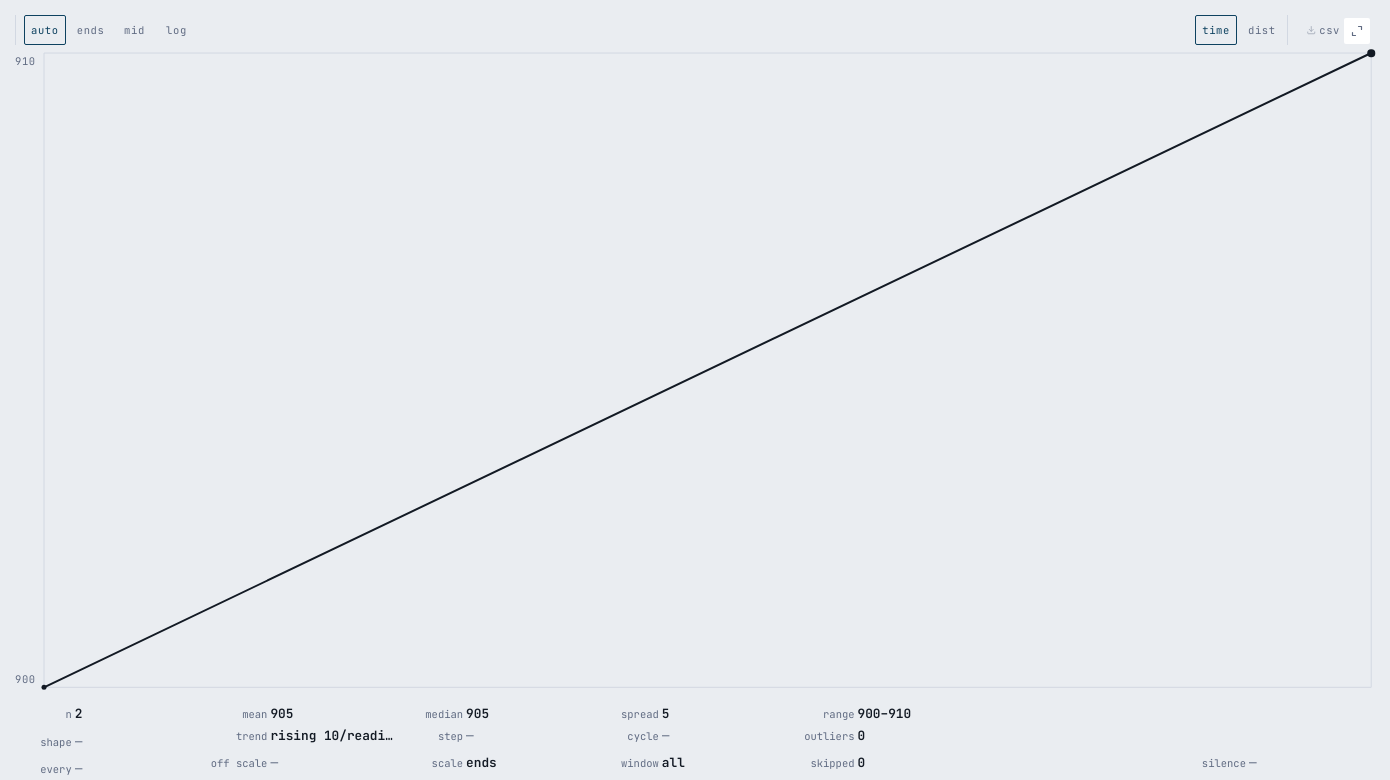
Test case: pinning a chart › opens as many windows on one topic as it is asked for
The width and height of the screenshot is (1390, 780).
Click the button with test id "zoom": (1357, 31) [1344,18,1370,44]
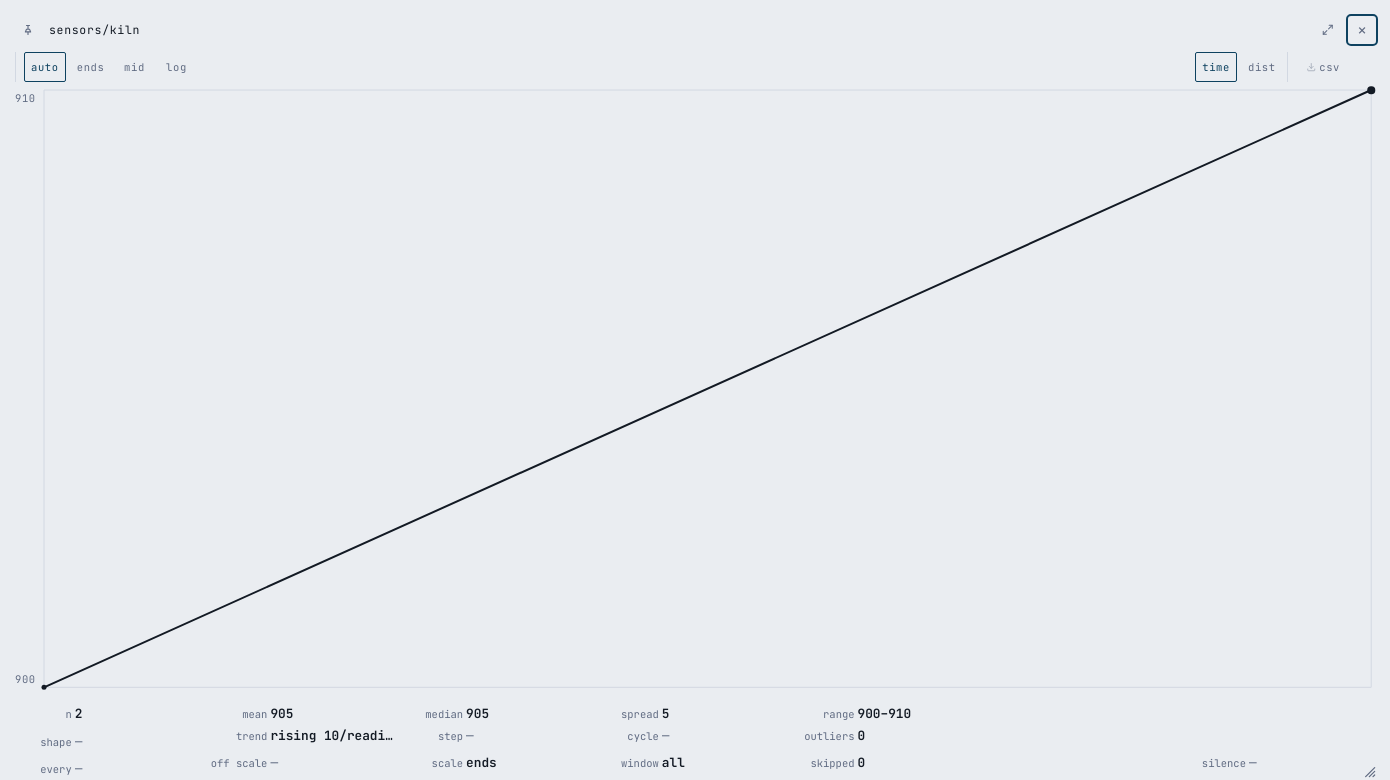
Click the button named "Pin ": (28, 30) [15,17,41,43]
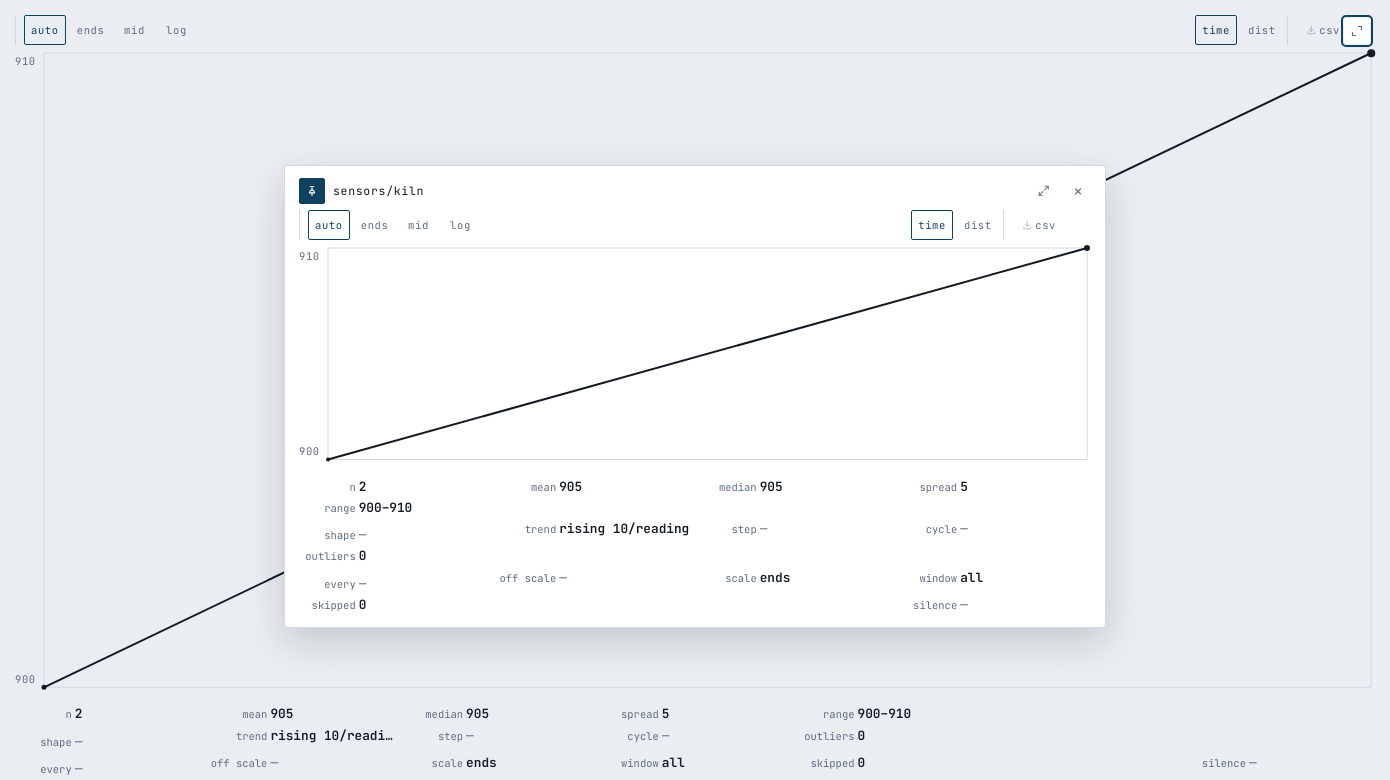
Click the button with test id "zoom": (1357, 31) [1344,18,1370,44]
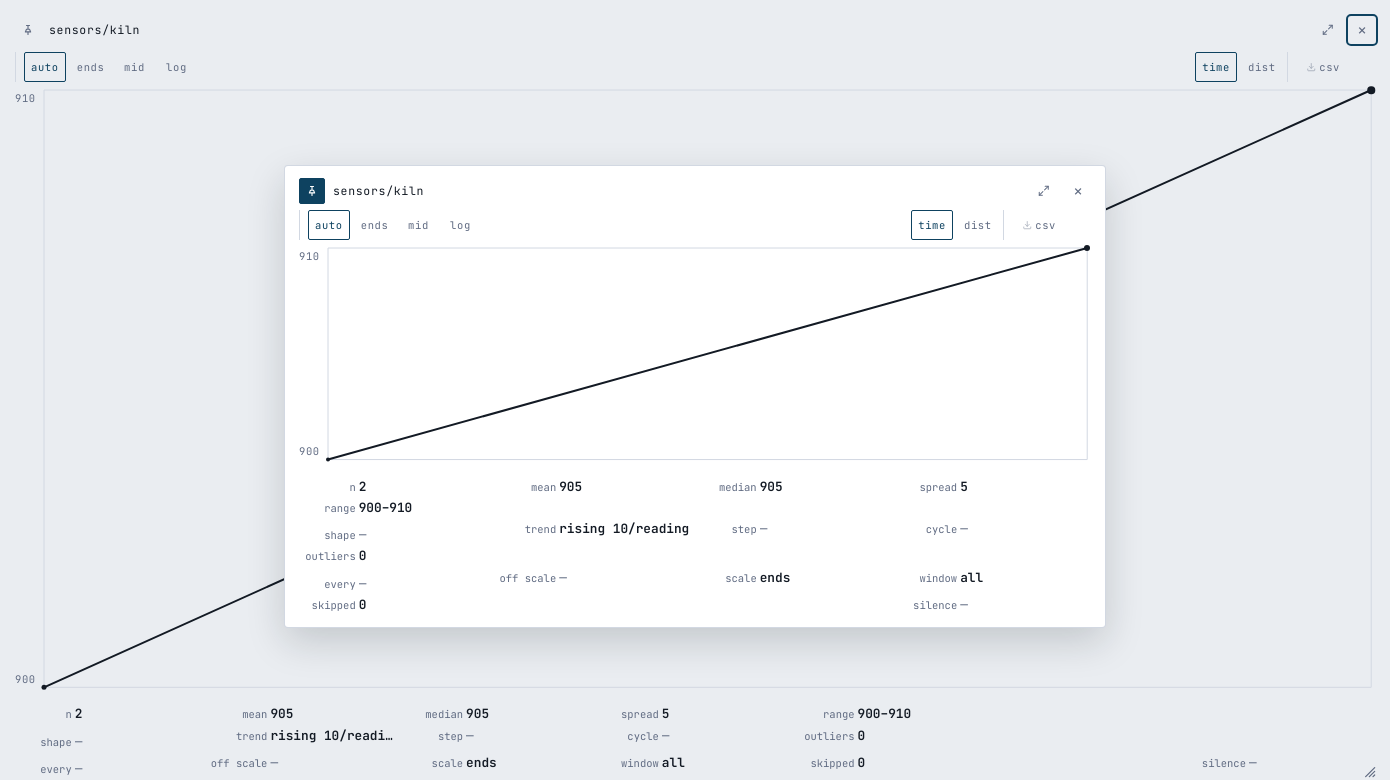
Click the button named "Pin ": (28, 30) [15,17,41,43]
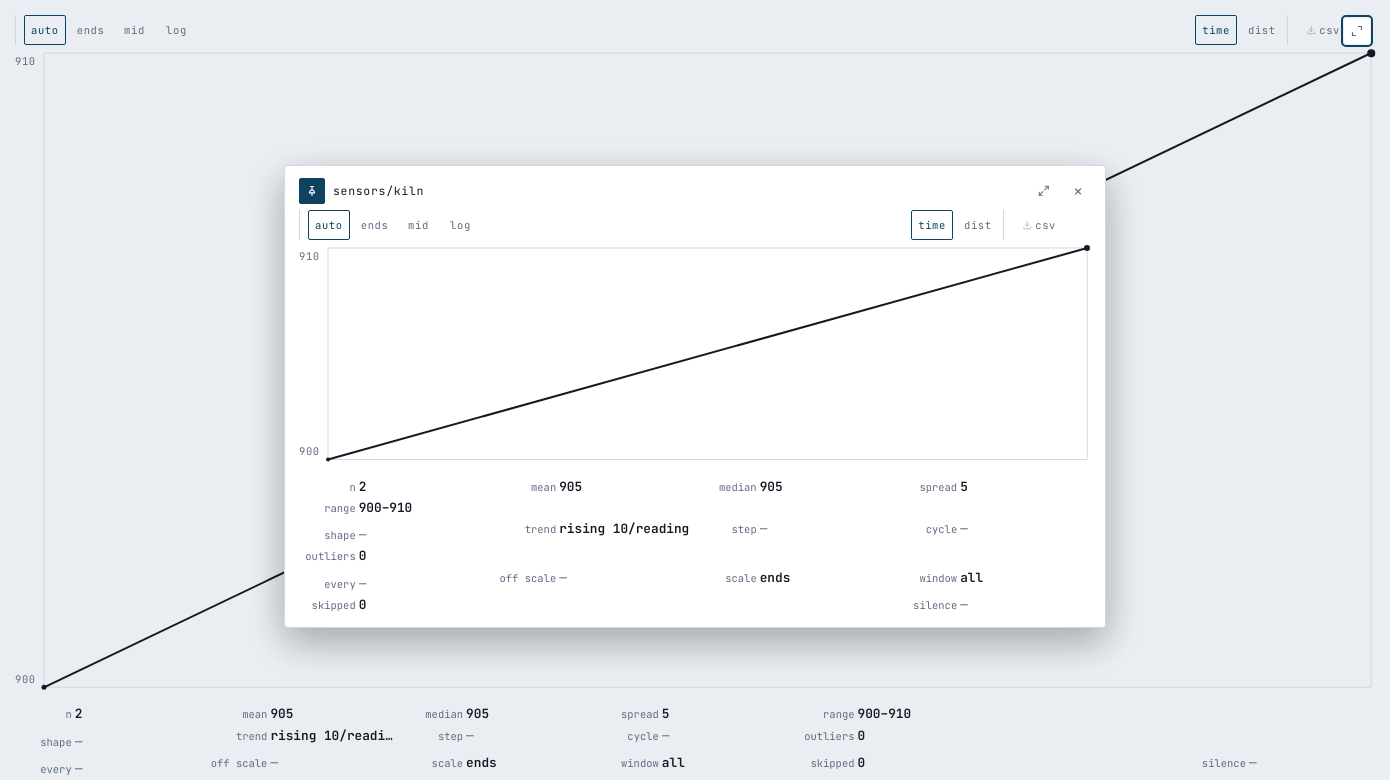
Expected: the number of elements with test id "chart-window" is 2, [285,166,1105,627]; [285,166,1105,627]
